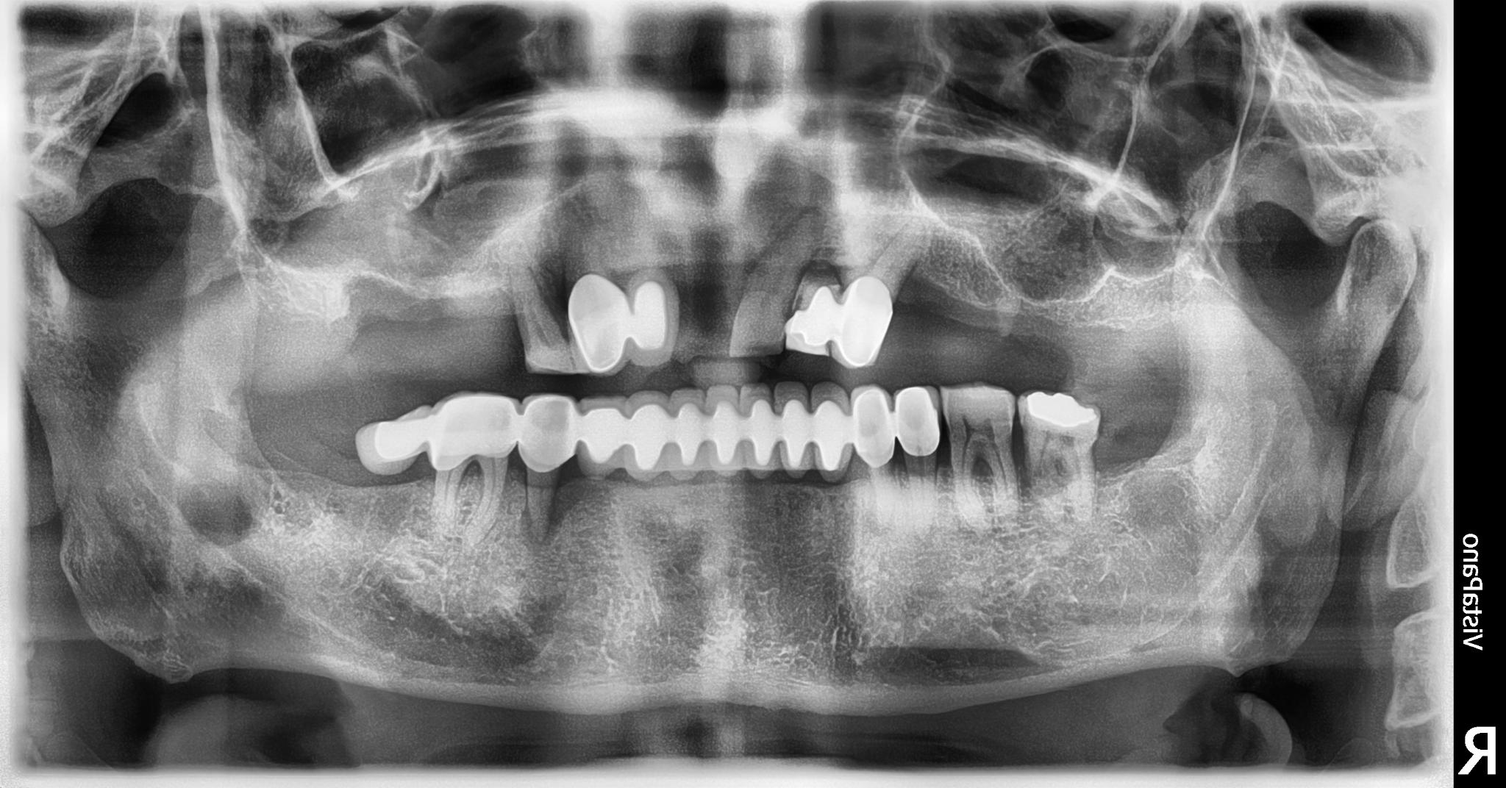Premolars: (261, 185, 781, 595)
